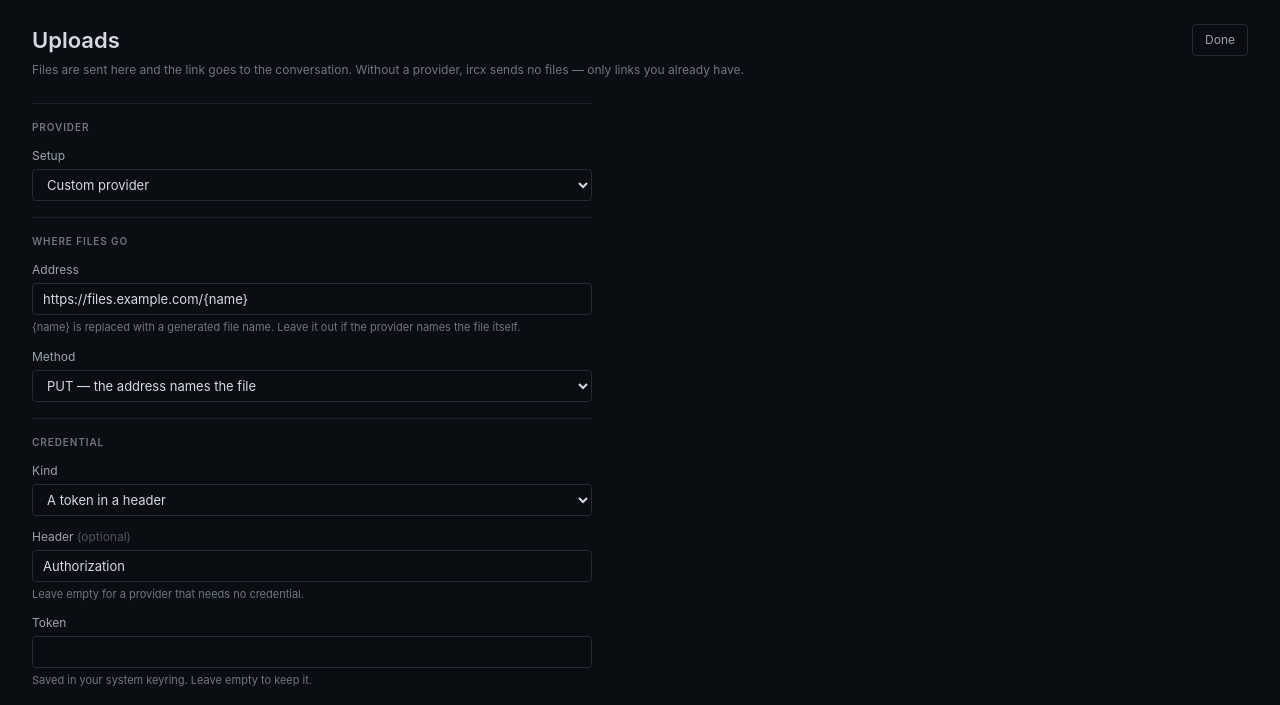
the uploads page › says a saved secret of the other kind will not do
Select "S3-compatible, signed" in the dropdown labelled "Kind": [312, 500] box x1=32 y1=484 x2=592 y2=516
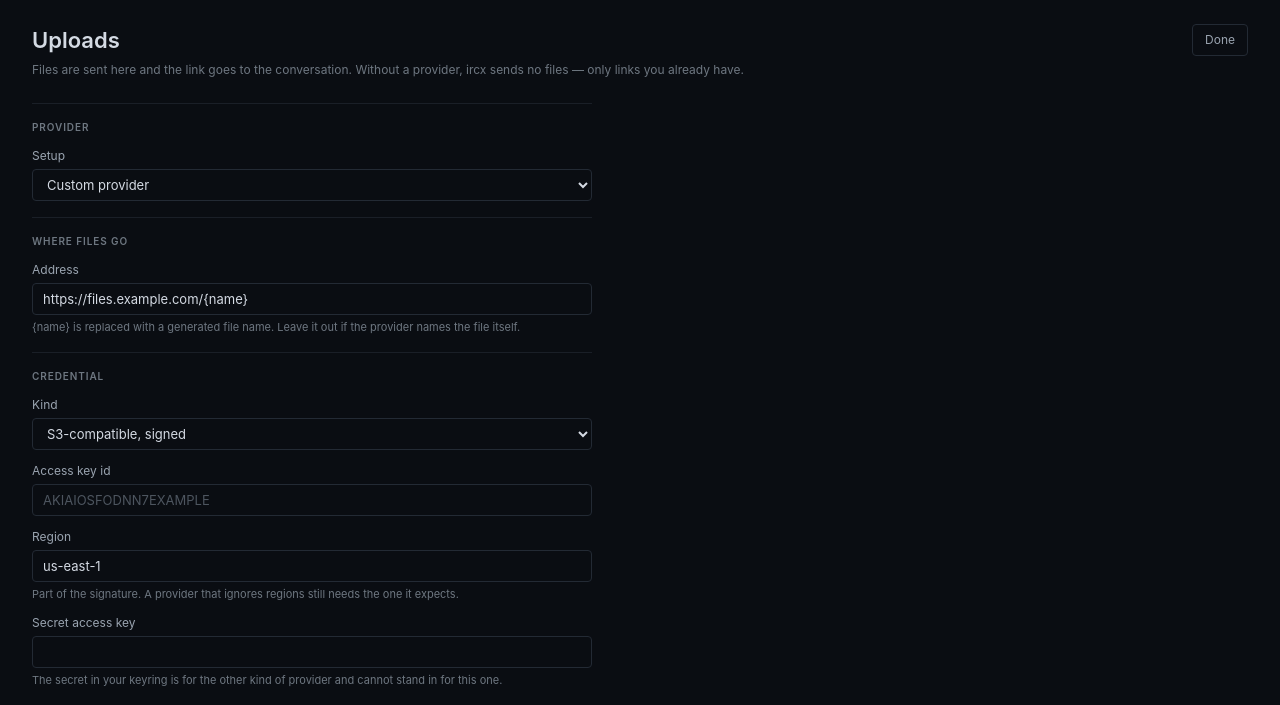
Check: the text "for the other kind of provider" is shown, box x1=32 y1=673 x2=502 y2=687
